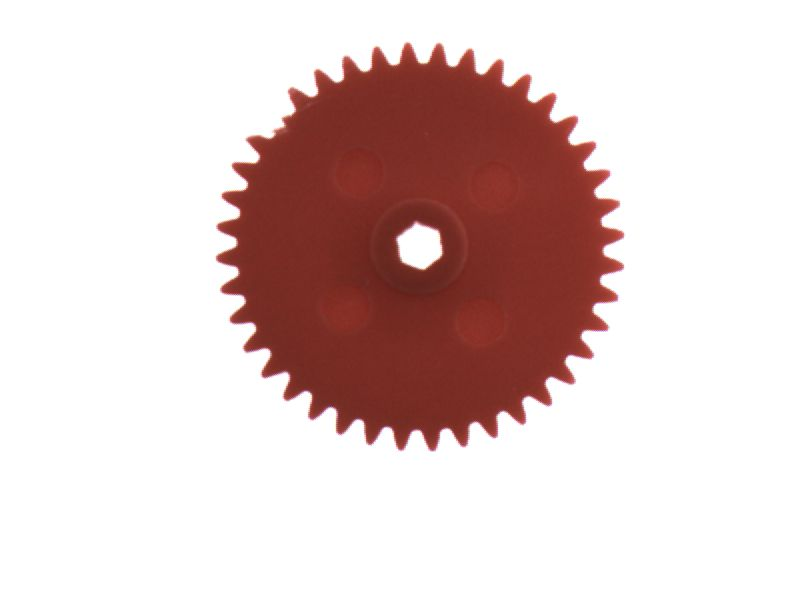defect_lack: (247, 91, 301, 146)
